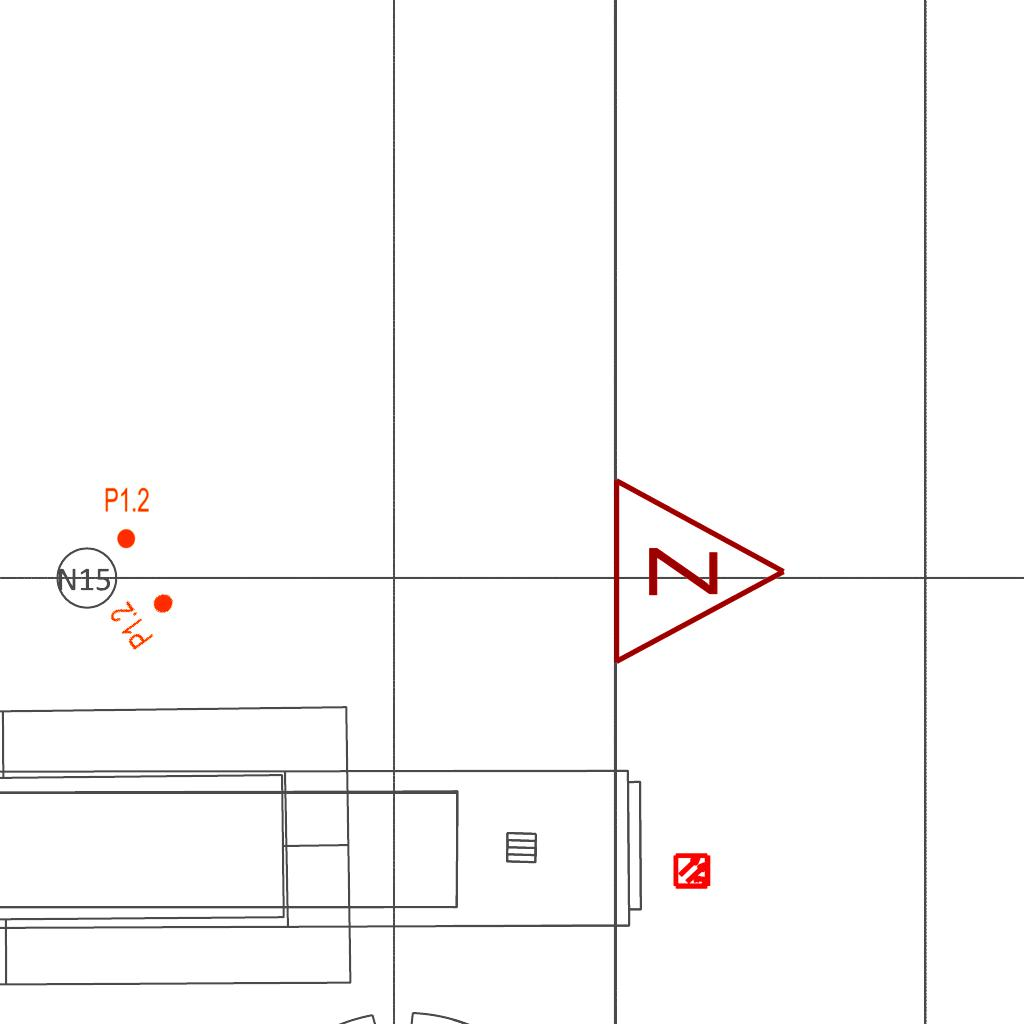Downlight_LED_Einbauleuchten_Flur: (106, 577, 186, 653), (104, 486, 150, 550)
OT_Multisensormelder_(Kombination_RMO_WMD): (665, 843, 721, 899)
Zimmersignalleuchte: (599, 471, 799, 667)
